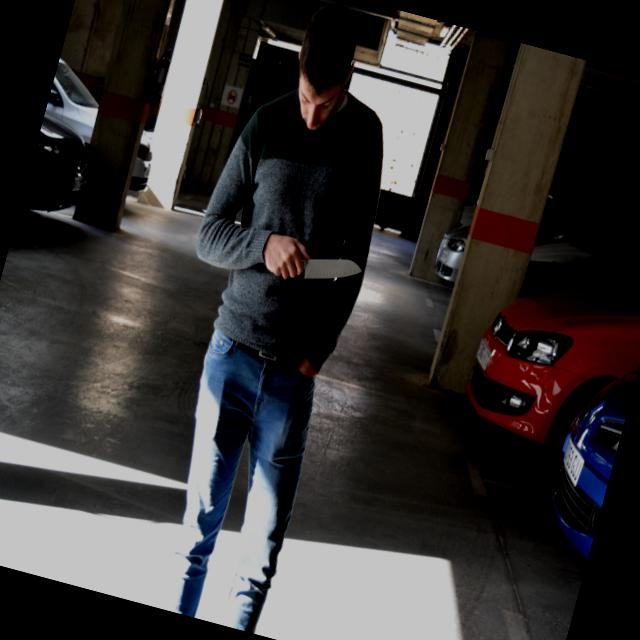knife: (291, 239, 369, 297)
